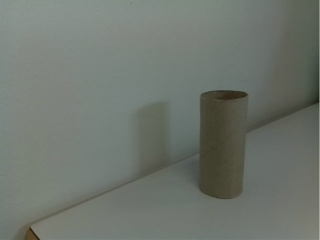rollo papel: (197, 89, 252, 203)
